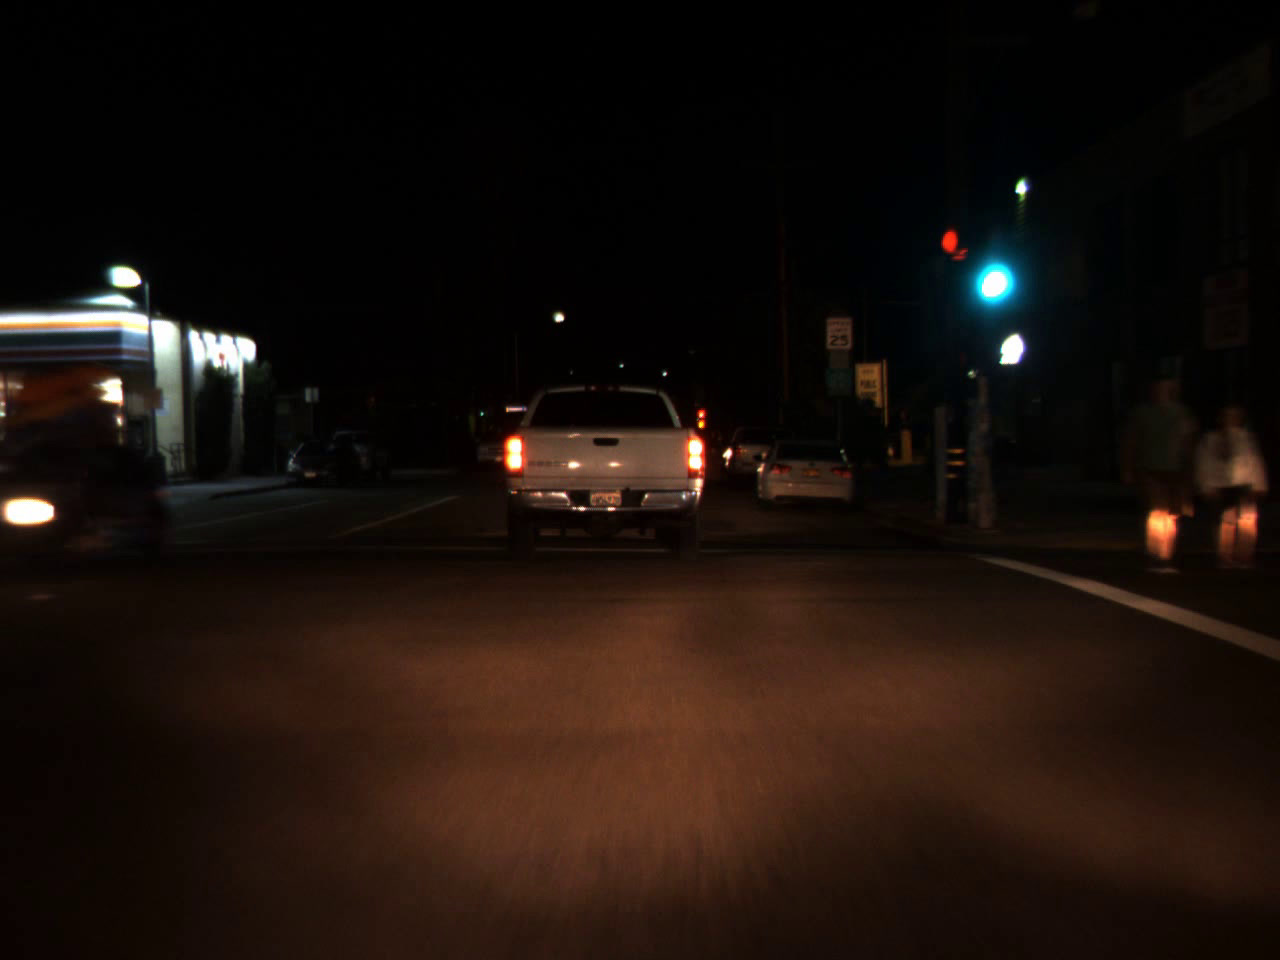go: (970, 236, 1013, 308)
stop: (696, 408, 706, 429)
